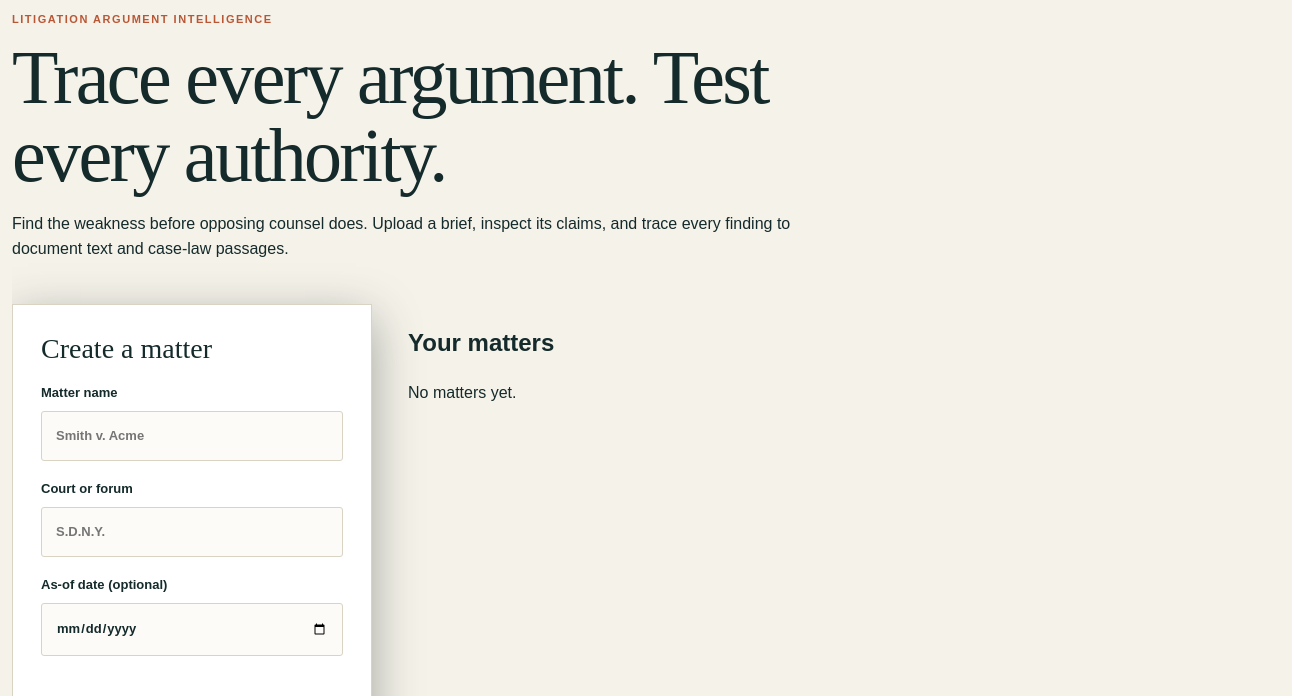
Scenario: creates a matter and links to its workspace
Type "Smith v. Example" into the field with placeholder "Smith v. Acme".
click(192, 436); type("Smith v. Example")  # box [41, 411, 343, 461]
(page scrolled)
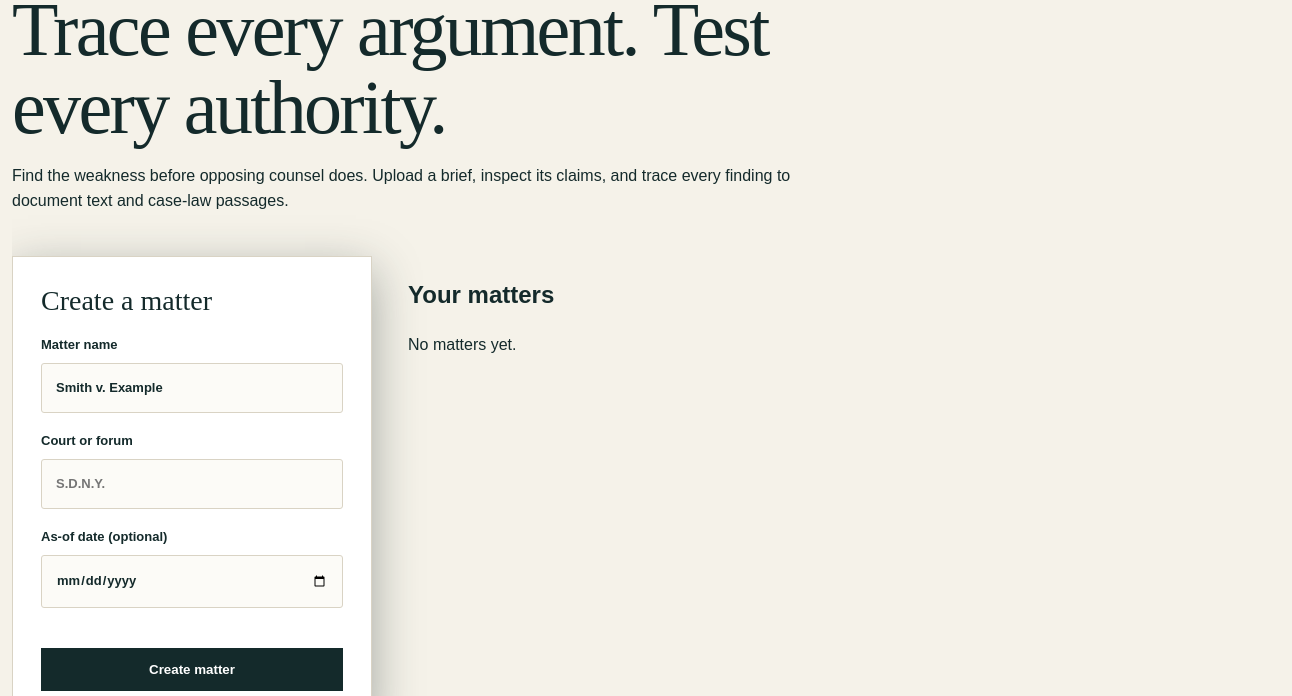
Click the button "Create matter".
click(192, 669)  # box [41, 648, 343, 690]
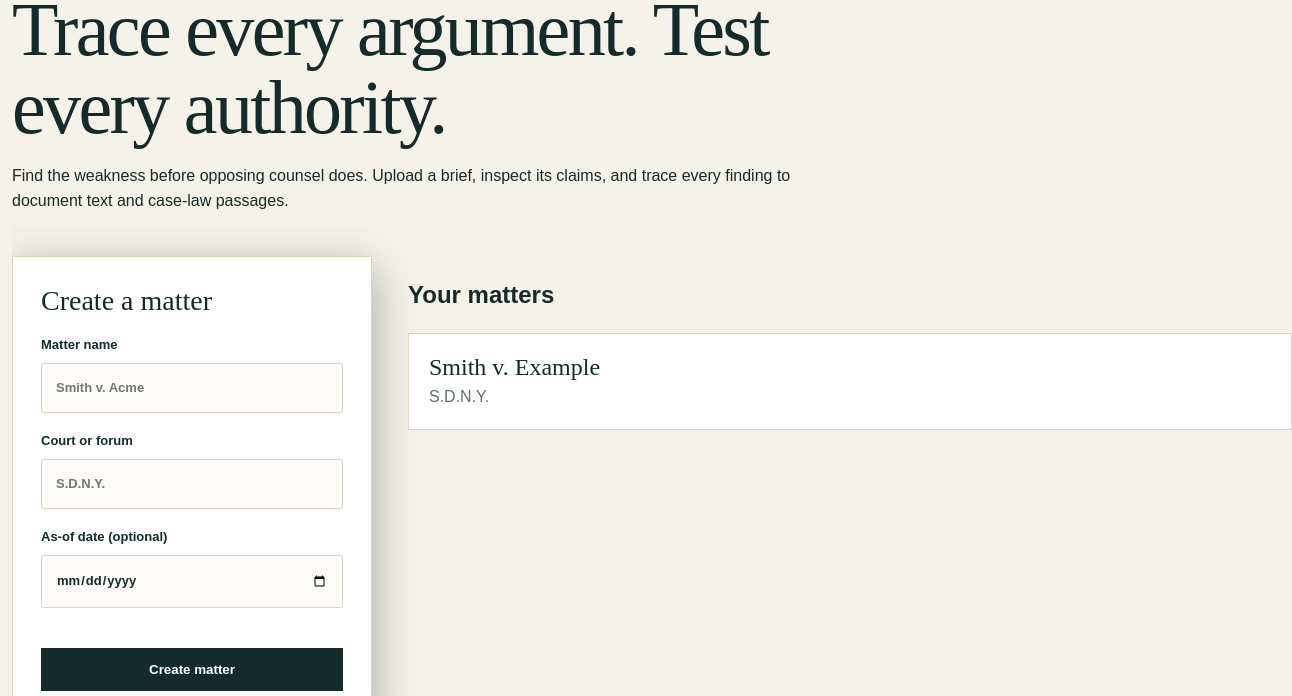
Result: the text "Smith v. Example" is shown at [429, 354, 600, 380]
